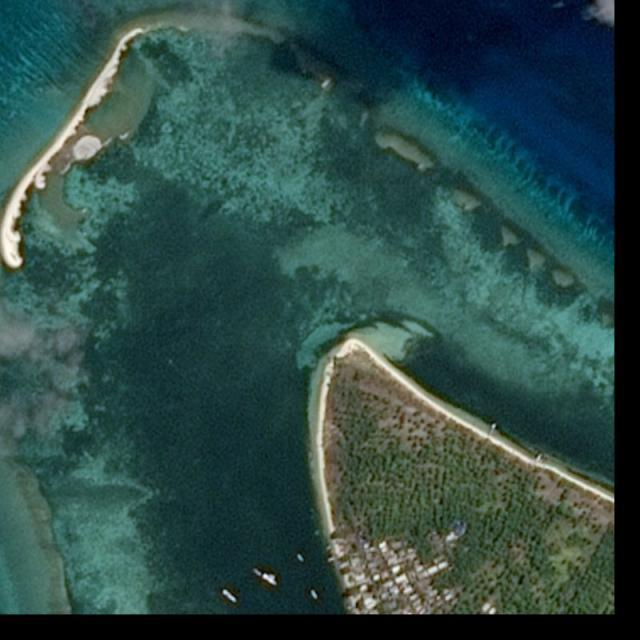ship: (221, 588, 238, 605), (262, 573, 278, 587), (294, 553, 306, 565), (309, 588, 320, 601), (252, 567, 262, 578)
